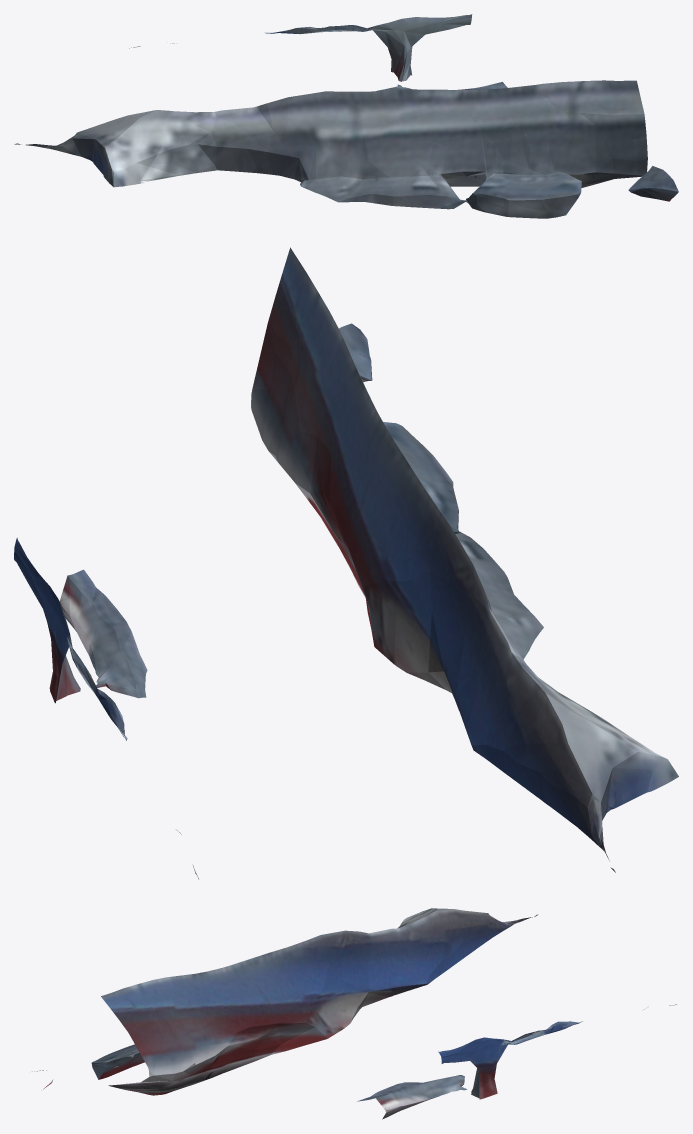
The picture shows the model from 3 angles, top to bottom: view 1: azimuth 30°, elevation 25°; view 2: azimuth 150°, elevation 25°; view 3: azimuth 270°, elevation 25°; orthographic projection. The views are drawn at different scales.
Size of the model in its own units: 1.58 by 0.4442 by 2.17.
Materials: 1 (1 with a texture image).
